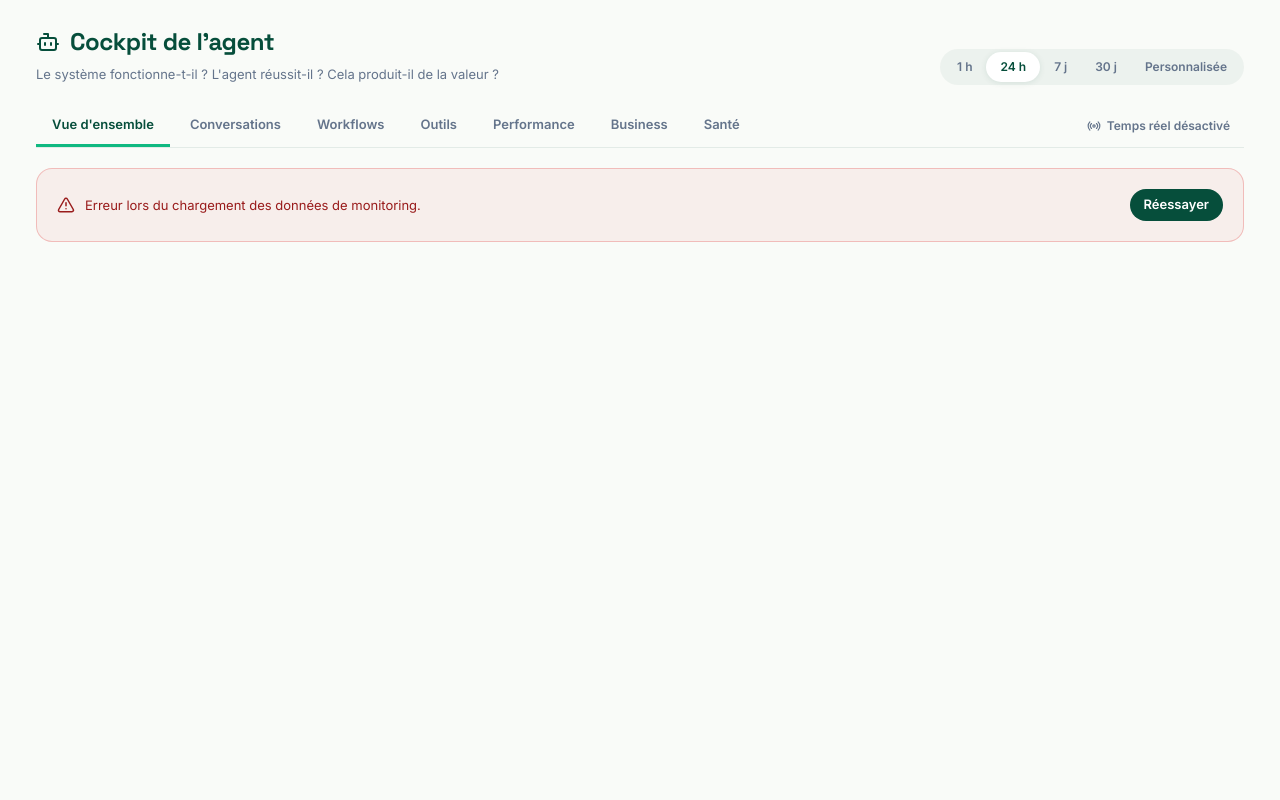
it: Vue d'ensemble › erreur : message clair + bouton Réessayer qui recharge
The image size is (1280, 800).
Expected: the message with test id "state-error" shows "Erreur lors du chargement", [85, 197, 421, 213]
Click the button "Réessayer": point(1176, 205) [1130, 189, 1223, 221]
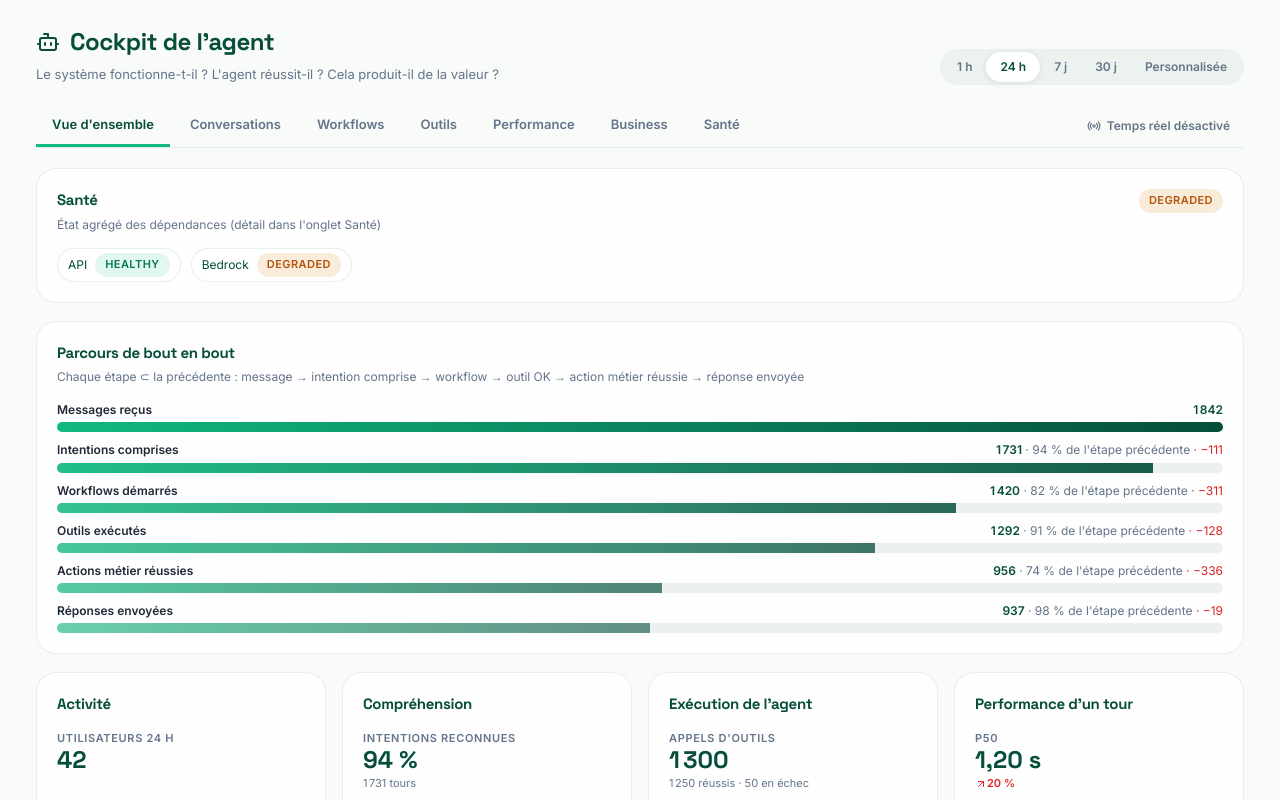
Result: the list with test id "funnel" is shown at [57, 400, 1223, 633]
